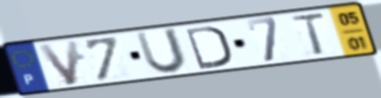7: (83, 34, 122, 83), (244, 15, 281, 64)
D: (183, 24, 233, 71)
T: (288, 11, 329, 58)
U: (133, 26, 190, 76)
V: (35, 38, 81, 87)
